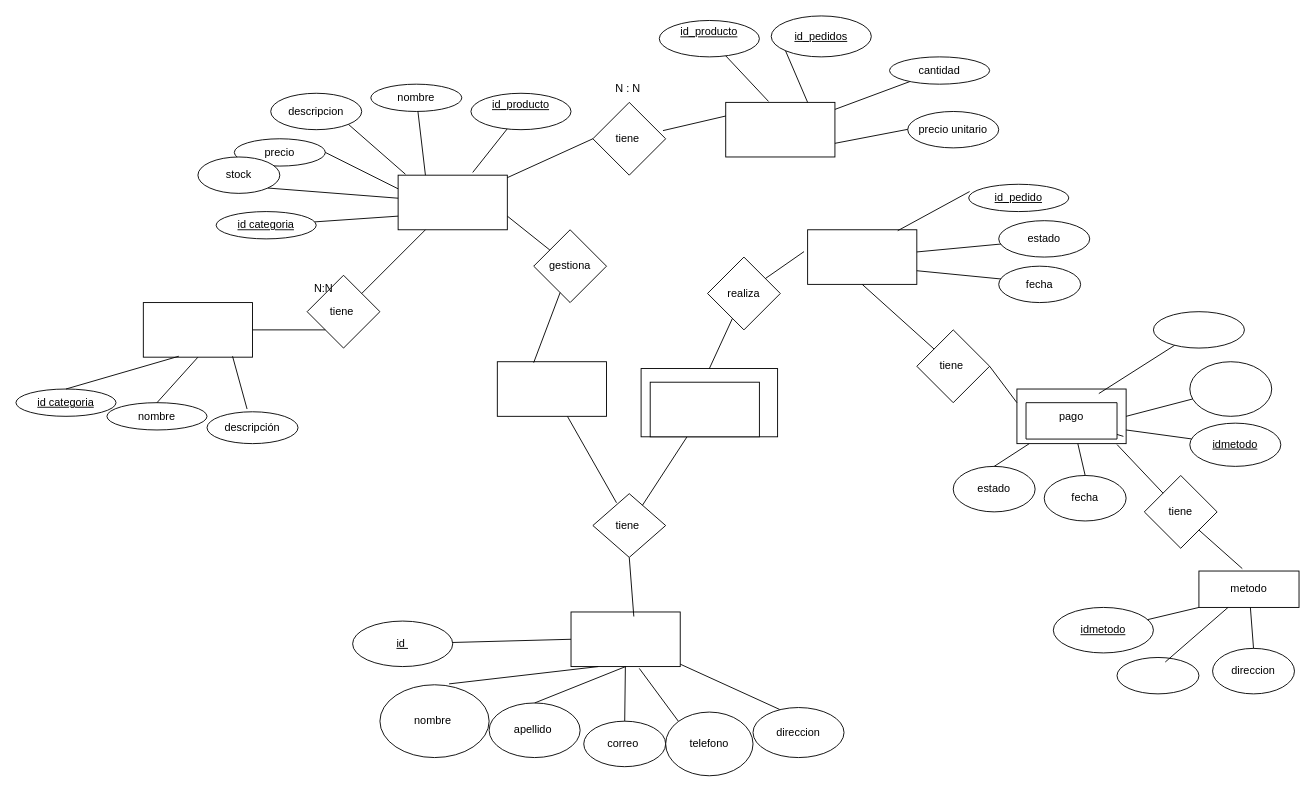
Some shapes in this 1315 by 792 pixel diagram are drawn without their labels. Here are the shapes that lost their labels. From the top down, the centre of each, then its label:
At [780,129]: "pedidos".
At [452,202]: "productos y servicios".
At [862,256]: "pedido".
At [197,329]: "categoria".
At [1198,329]: "id_pago".
At [551,388]: "administrador".
At [1230,388]: "monto".
At [704,409]: "cliente compras".
At [625,639]: "usuario".
At [1157,675]: "empresa".
